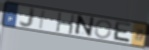E: (112, 21, 133, 44)
H: (56, 12, 76, 36)
I: (38, 9, 47, 31)
J: (18, 7, 36, 29)
N: (73, 14, 96, 38)
O: (94, 20, 114, 40)
